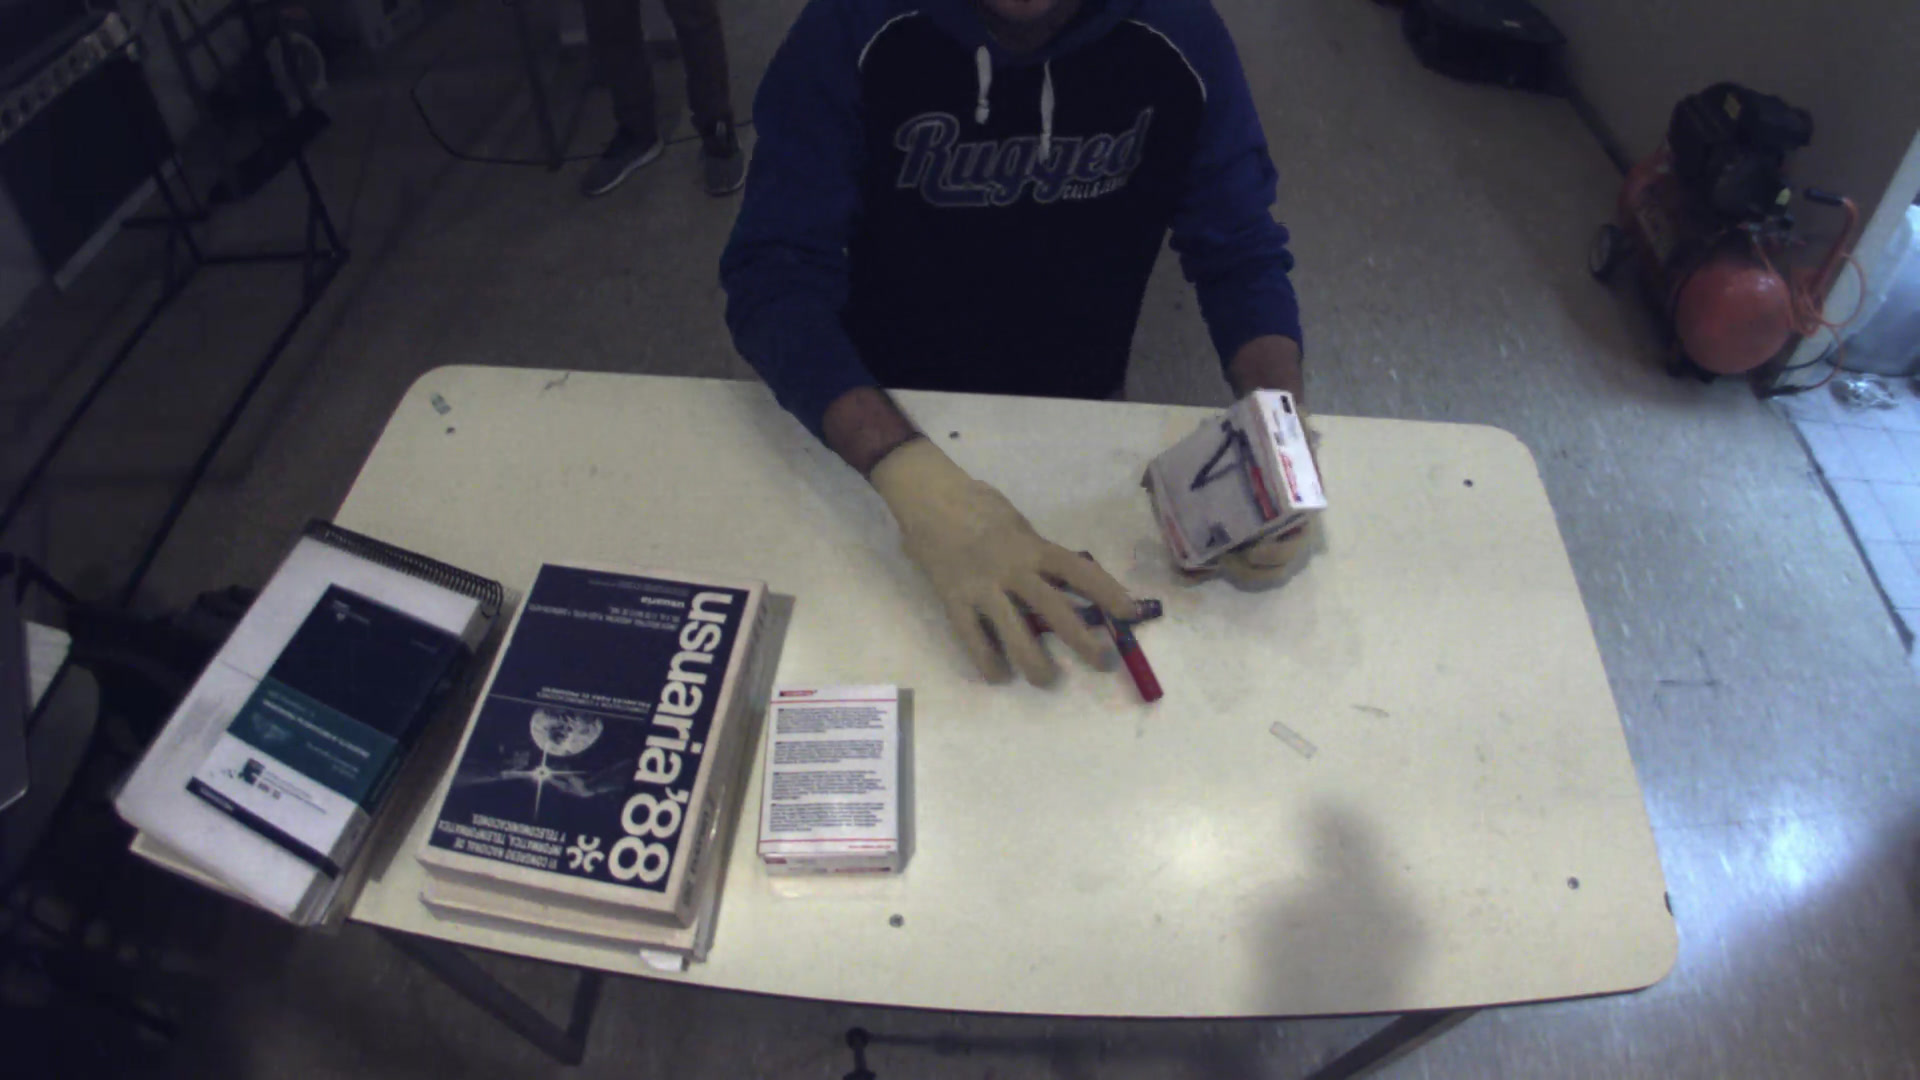hand: (857, 436, 1168, 700)
